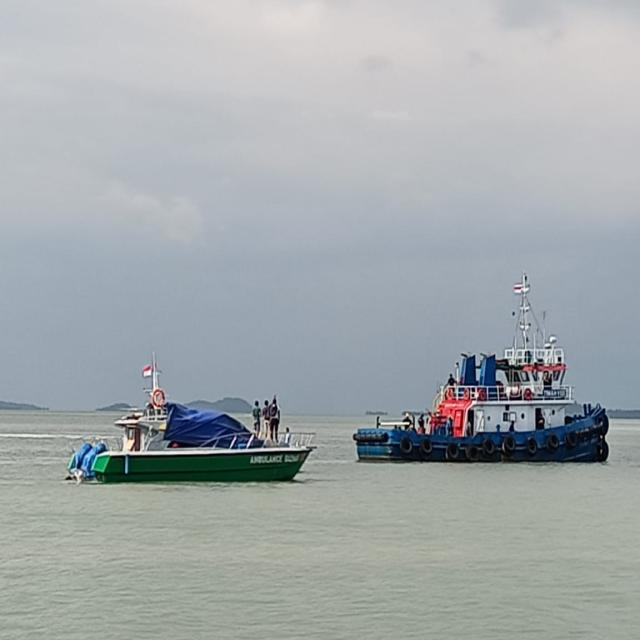fishing boat: (359, 299, 610, 466)
houseboat: (63, 366, 316, 488)
